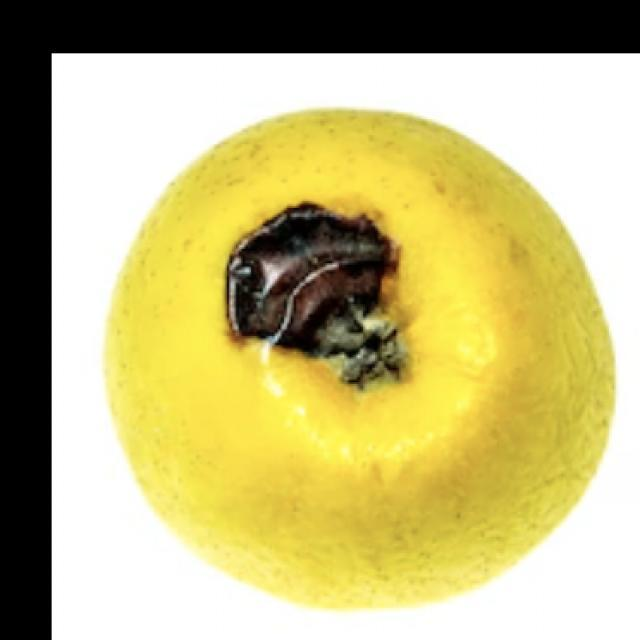Rotten: (97, 109, 616, 607)
